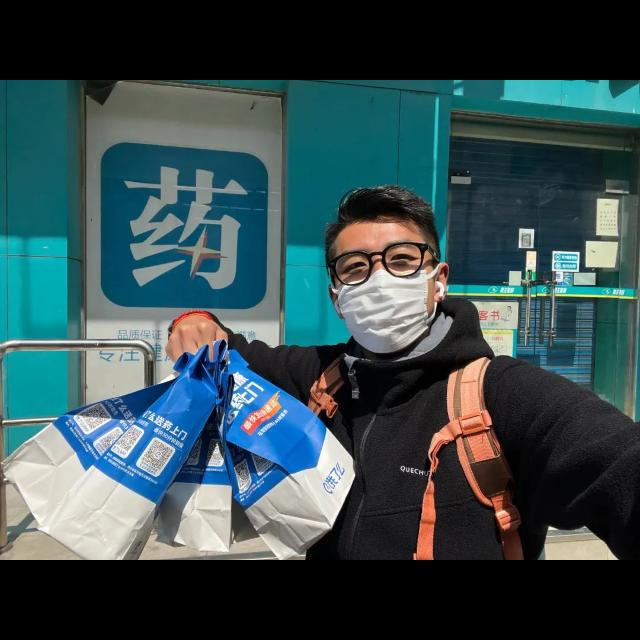masks: (337, 284, 428, 354)
